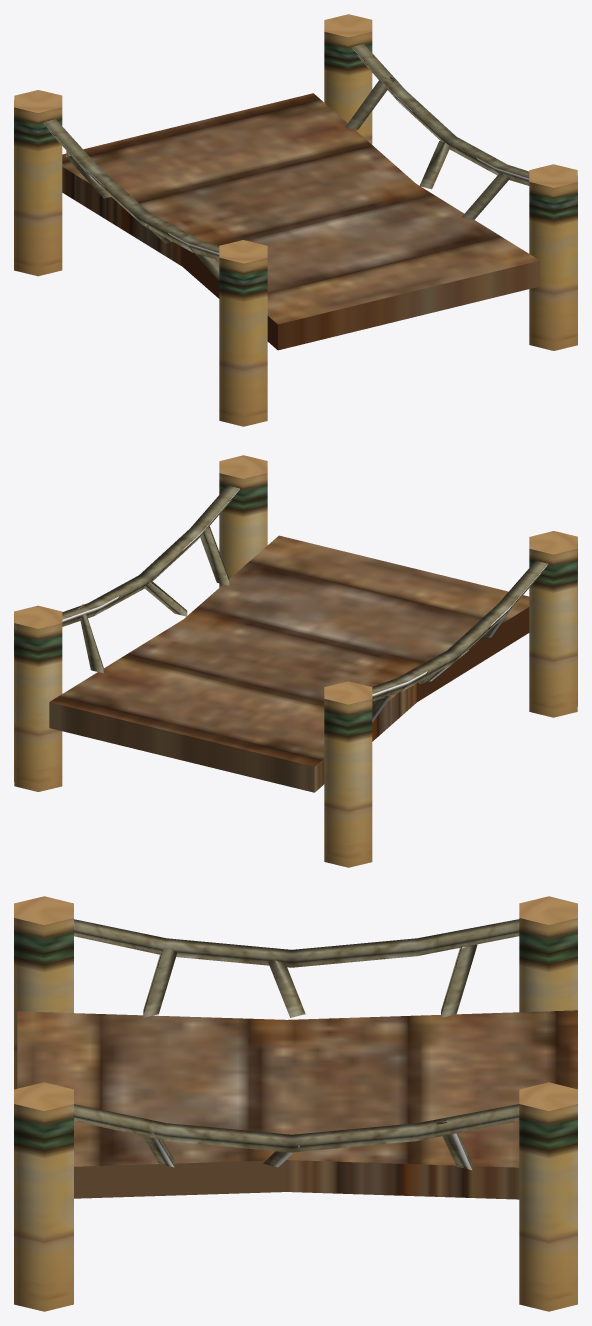
Rendered from jun_tile_straight.obj.
The picture shows the model from 3 angles, top to bottom: view 1: azimuth 30°, elevation 25°; view 2: azimuth 150°, elevation 25°; view 3: azimuth 270°, elevation 25°; orthographic projection. The views are drawn at different scales.
Parts seen in each view (by area): view 1: tile_straight11; view 2: tile_straight11; view 3: tile_straight11.
Part boxes in pixels (bbox=[...]): tile_straight11: bbox=[14, 14, 577, 426]; tile_straight11: bbox=[14, 455, 577, 867]; tile_straight11: bbox=[14, 896, 577, 1311].
Bounding box in the file's own units: 0.9021 × 0.3923 × 1.
1 material, 1 textured.
